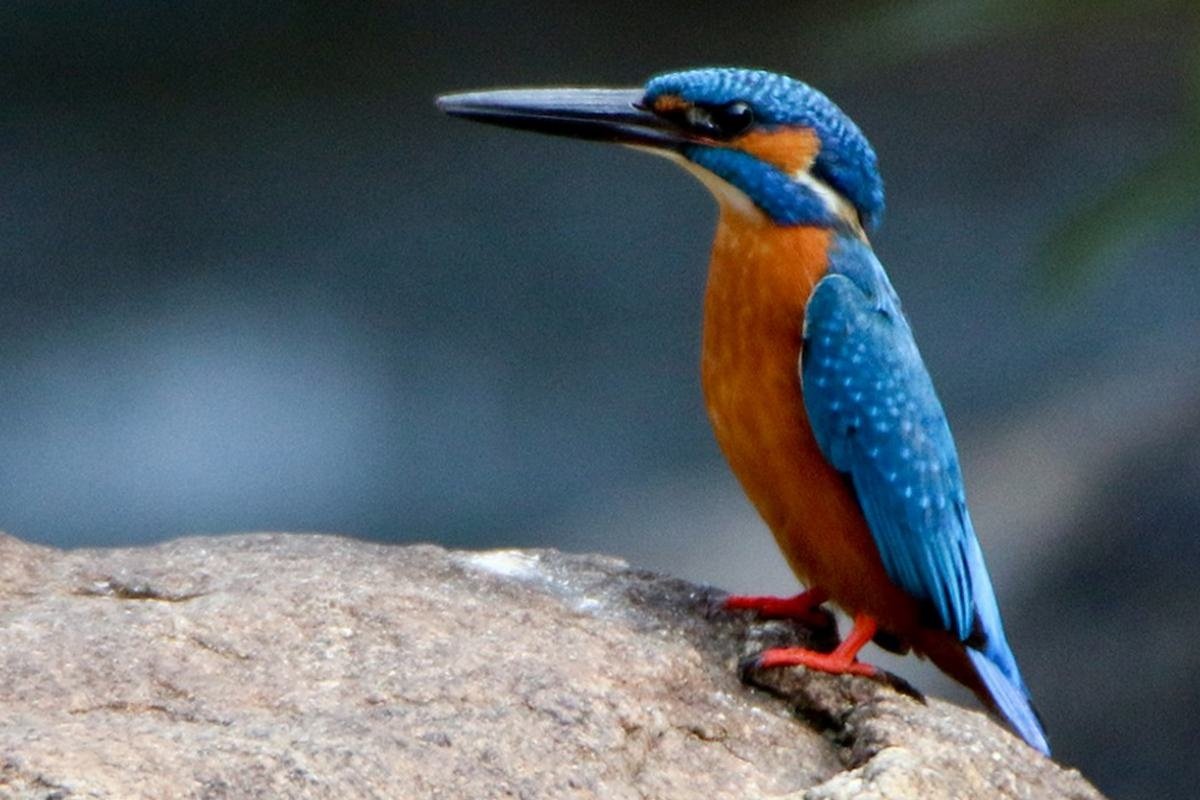kingfisher: (427, 51, 1134, 749)
